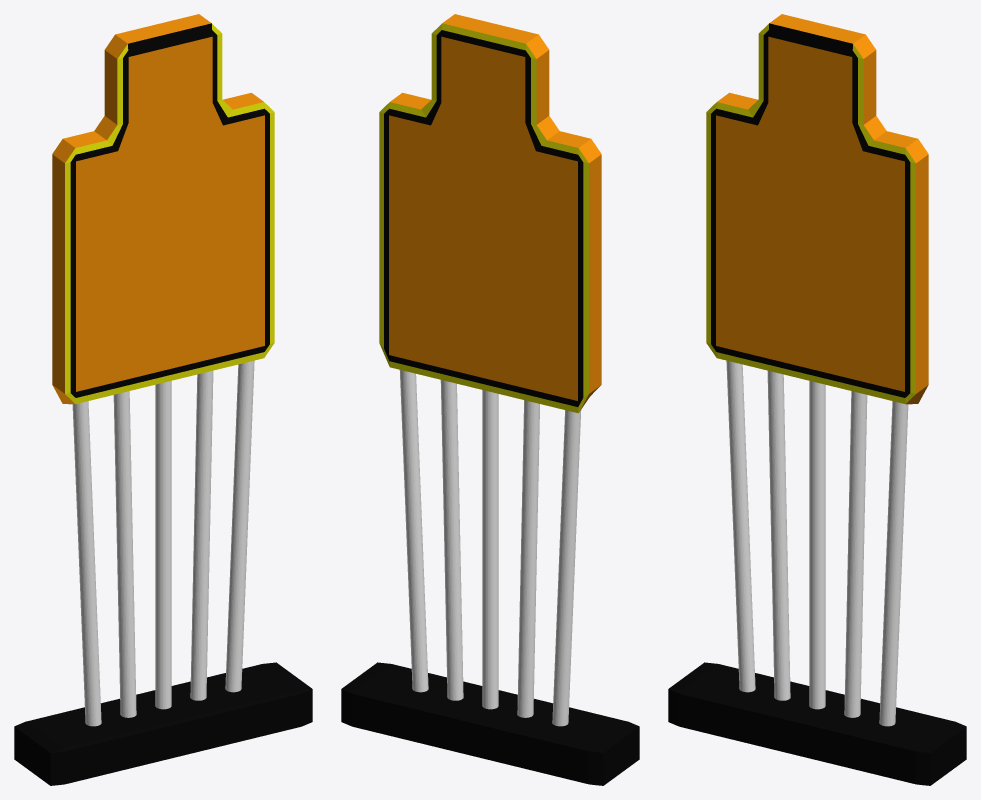
The model's file is mannequin.glb.
3 renders of one model, left to right at view 1: azimuth 30°, elevation 25°; view 2: azimuth 150°, elevation 25°; view 3: azimuth 330°, elevation 25°, orthographic.
Visible parts, largest first — view 1: Cube.001, Cylinder.004, Cube; view 2: Cube.001, Cylinder.004, Cube; view 3: Cube.001, Cylinder.004, Cube.
Part boxes in pixels (x1=…): Cube.001: x1=52, y1=14, x2=274, y2=404; Cylinder.004: x1=72, y1=360, x2=254, y2=726; Cube: x1=14, y1=662, x2=312, y2=785; Cube.001: x1=379, y1=14, x2=601, y2=413; Cylinder.004: x1=399, y1=370, x2=581, y2=726; Cube: x1=341, y1=662, x2=639, y2=785; Cube.001: x1=706, y1=14, x2=928, y2=404; Cylinder.004: x1=726, y1=360, x2=908, y2=726; Cube: x1=668, y1=662, x2=966, y2=785.
Bounding box in the file's own units: 0.75 × 1.95 × 0.2.
